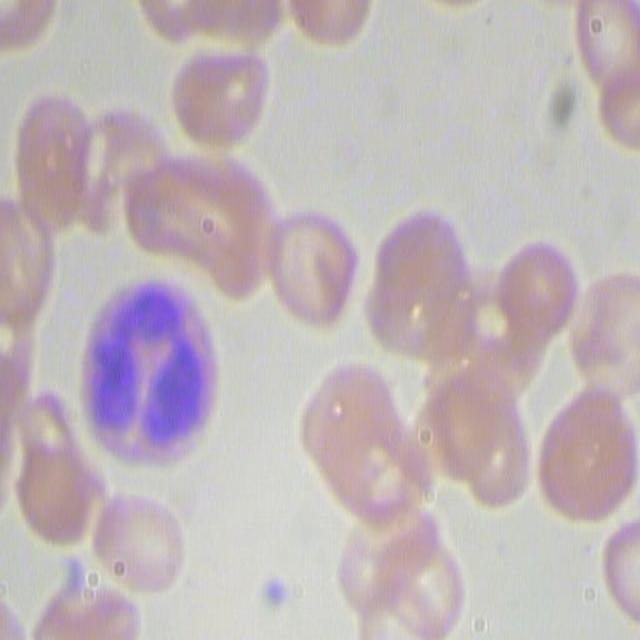RBC: (135, 141, 281, 298), (310, 355, 438, 533), (366, 204, 482, 366), (416, 360, 536, 509), (10, 76, 121, 231), (342, 506, 469, 638), (531, 383, 637, 520), (502, 220, 594, 366), (26, 398, 114, 548), (162, 39, 272, 158), (262, 206, 362, 336), (4, 207, 46, 502), (87, 482, 189, 601), (572, 1, 640, 151), (564, 272, 640, 403), (32, 575, 144, 640), (139, 3, 300, 47), (274, 0, 380, 44), (601, 514, 640, 632)
WBC: (89, 283, 220, 506)
platelets: (54, 551, 88, 600)
